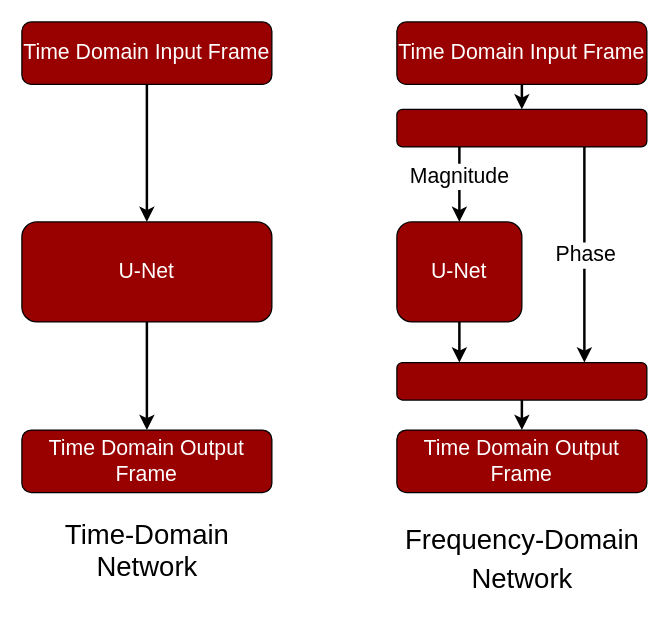
Image size: 669x625. Some labels were removed from this diagram. The centre of each missing label's shape, as x and y in pixels:
FFT: the point at 521,127
IFFT: the point at 521,380
